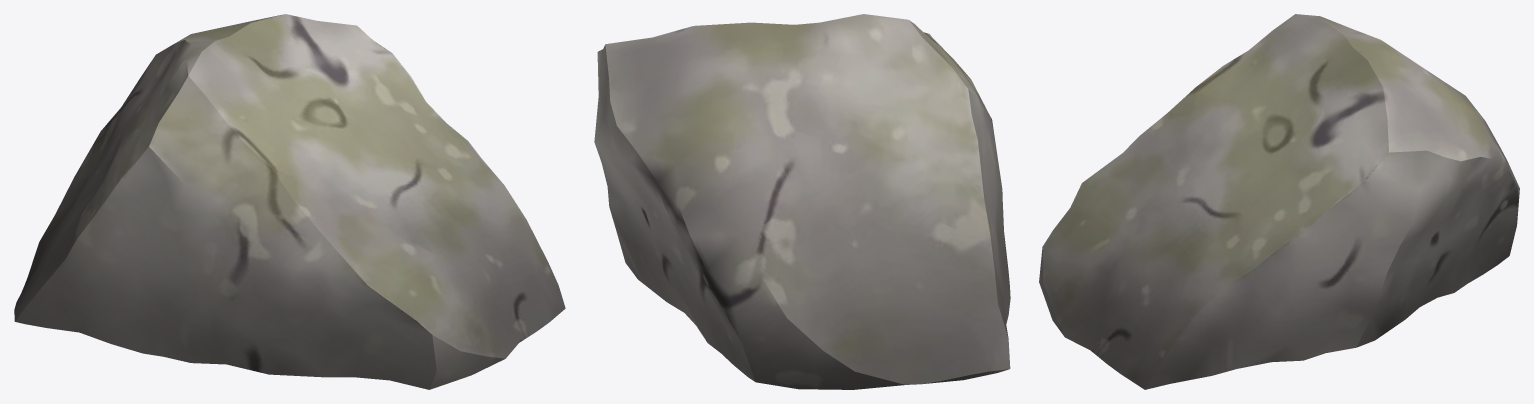
Rendered from rockShore.glb.
The picture shows the model from 3 angles, left to right: view 1: azimuth 30°, elevation 25°; view 2: azimuth 150°, elevation 25°; view 3: azimuth 270°, elevation 25°; orthographic projection. The views are drawn at different scales.
Visible parts, largest first — view 1: low; view 2: low; view 3: low.
Boxes of the visible parts, x1=… form: low: x1=14, y1=14, x2=565, y2=389; low: x1=594, y1=14, x2=1010, y2=389; low: x1=1039, y1=14, x2=1519, y2=389.
Size of the model in its own units: 2.14 by 1.23 by 2.17.
Materials: 1 (1 with a texture image).
